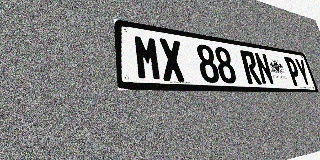8: (195, 43, 221, 83), (213, 46, 237, 84)
M: (133, 34, 163, 81)
N: (253, 52, 275, 85)
P: (284, 57, 303, 86)
R: (240, 50, 262, 85)
X: (158, 38, 186, 82)
Y: (294, 58, 312, 86)
